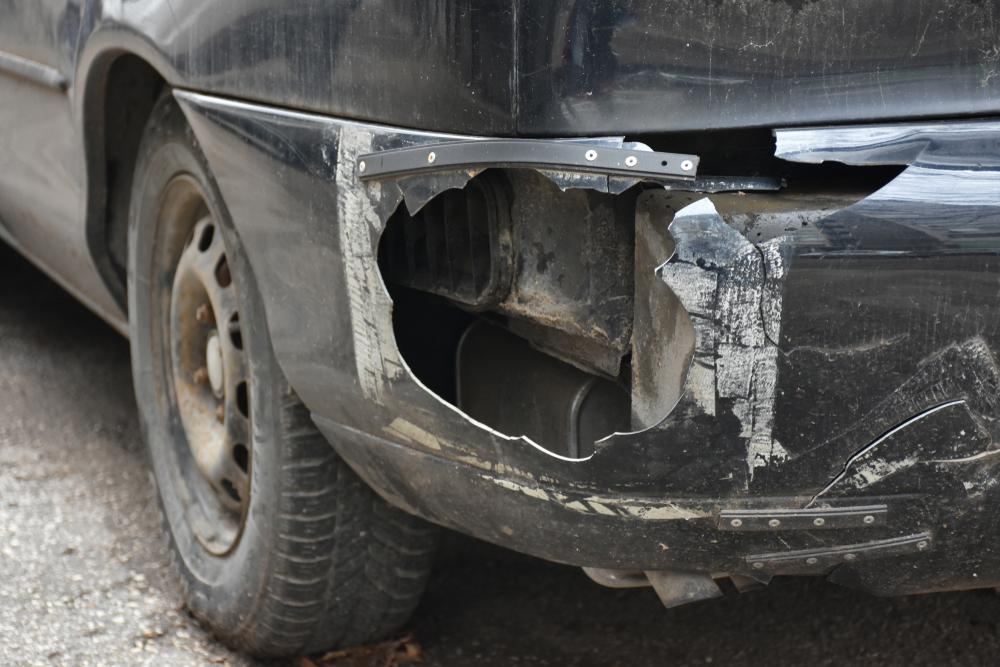crack: (374, 124, 912, 461), (803, 398, 967, 511)
